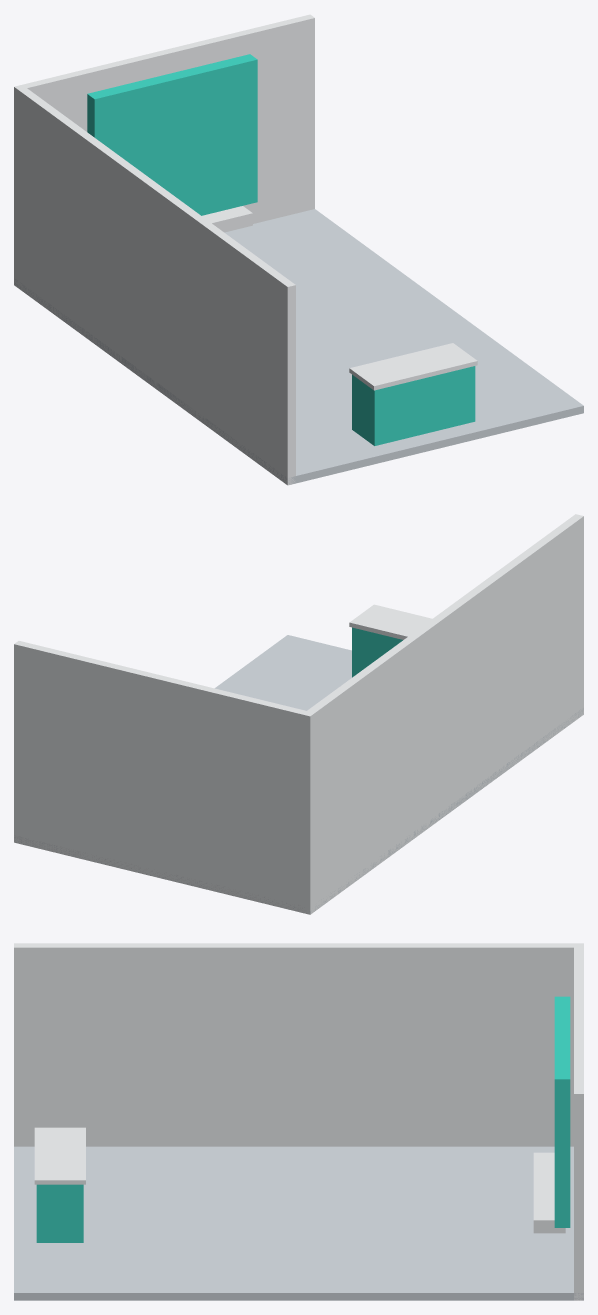
3 views of the same model, one above another, from view 1: azimuth 30°, elevation 25°; view 2: azimuth 150°, elevation 25°; view 3: azimuth 270°, elevation 25° (orthographic). The views are drawn at different scales.
Parts seen in each view (by area): view 1: Exhibition Booth Concept; view 2: Exhibition Booth Concept; view 3: Exhibition Booth Concept.
Boxes of the visible parts, x1,y1,x2,y2 form: Exhibition Booth Concept: (14,14,583,485); Exhibition Booth Concept: (14,514,583,914); Exhibition Booth Concept: (14,943,583,1300).
Bounding box in the file's own units: 5 × 3.2 × 8.
